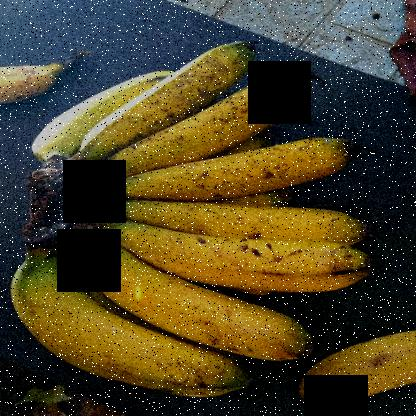freshripe: (11, 273, 217, 395)
ripe: (88, 232, 309, 363), (88, 160, 370, 246), (68, 41, 257, 158), (101, 219, 374, 289), (99, 136, 359, 197)
